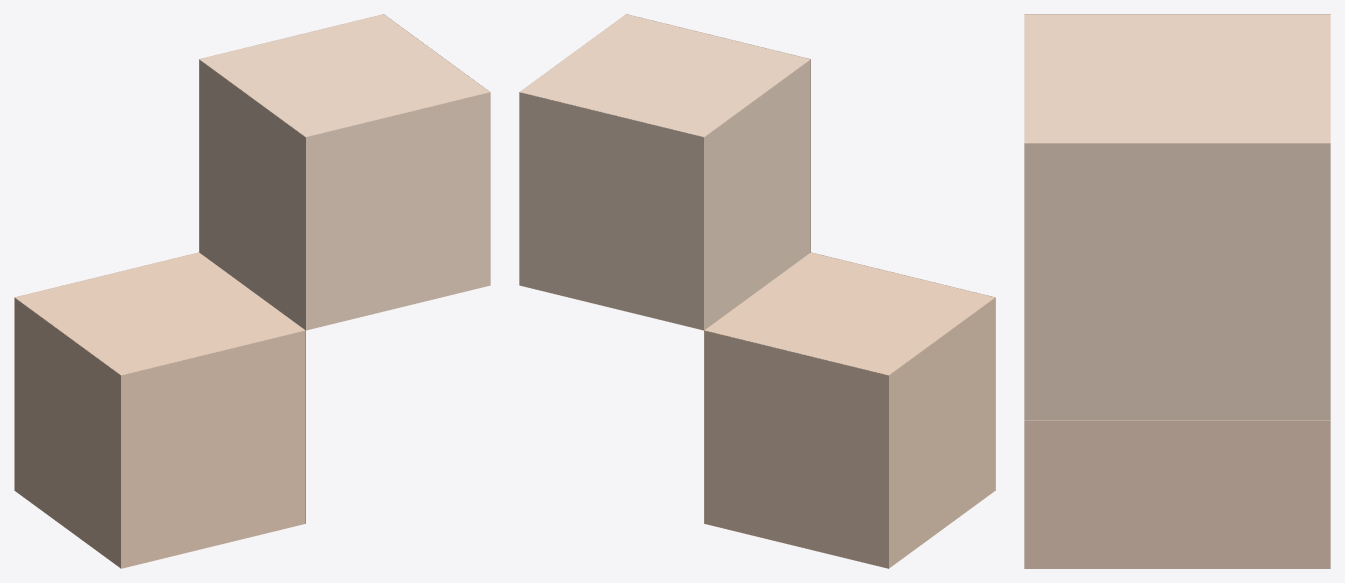
The model's file is Chronomancer Arm.obj.
3 views of the same model, side by side, from view 1: azimuth 30°, elevation 25°; view 2: azimuth 150°, elevation 25°; view 3: azimuth 270°, elevation 25° (orthographic). The views are drawn at different scales.
Parts seen in each view (by area): view 1: Chronomancer Arm; view 2: Chronomancer Arm; view 3: Chronomancer Arm.
Boxes of the visible parts, box(x1,y1,x2,y2) form: Chronomancer Arm: box(14, 14, 490, 568); Chronomancer Arm: box(519, 14, 995, 568); Chronomancer Arm: box(1024, 14, 1330, 568).
Bounding box in the file's own units: 2 × 2 × 1.
Materials: 1 (1 with a texture image).
